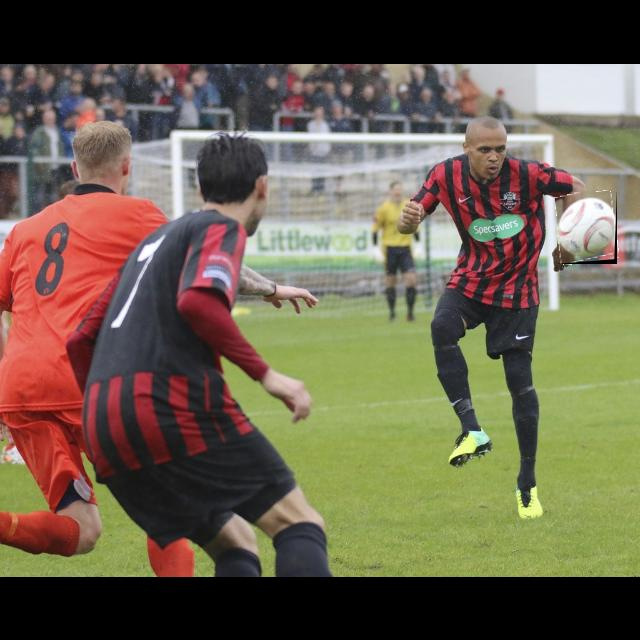Football: (557, 192, 617, 264)
